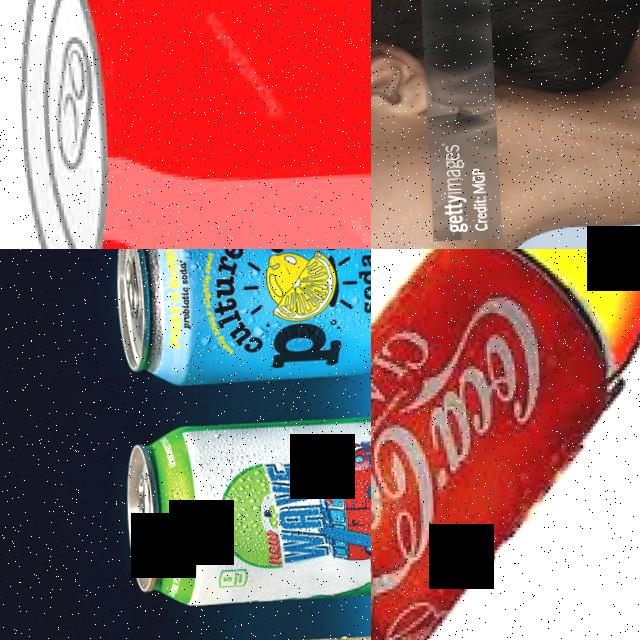can: (371, 249, 634, 640), (121, 408, 371, 606), (113, 249, 371, 388)
